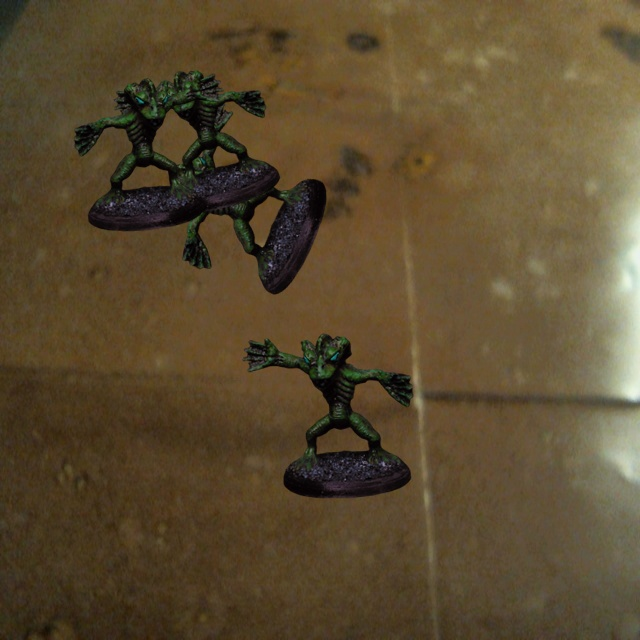pieza_juego: (170, 101, 326, 294), (242, 333, 413, 497), (114, 70, 279, 212), (74, 73, 223, 230)
